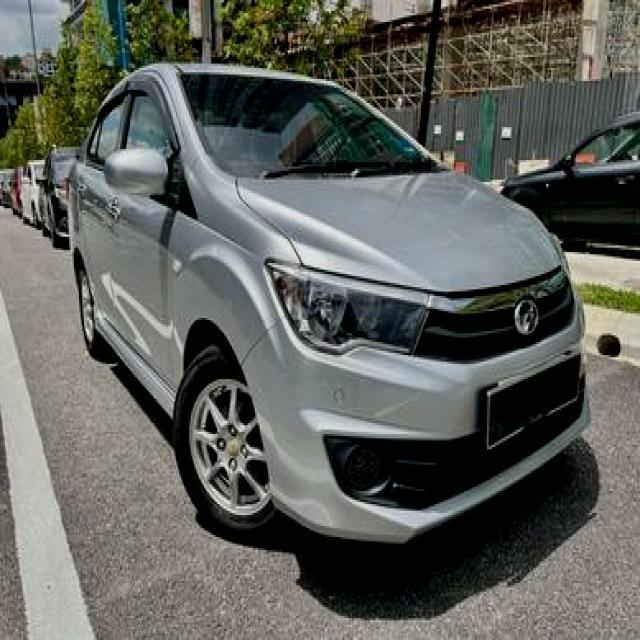PeroduaBezza: (64, 60, 591, 544)
